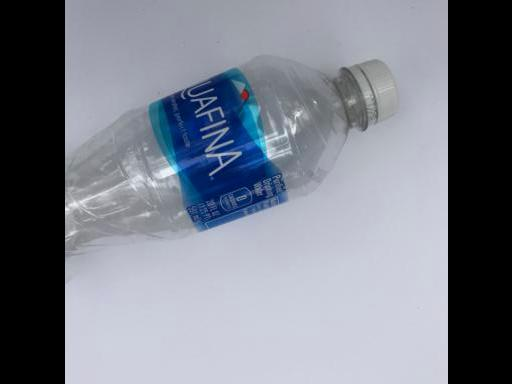PET: (64, 54, 398, 293)
aquafina: (64, 54, 398, 293)
plastic: (64, 54, 398, 293)
water: (64, 54, 398, 293)
